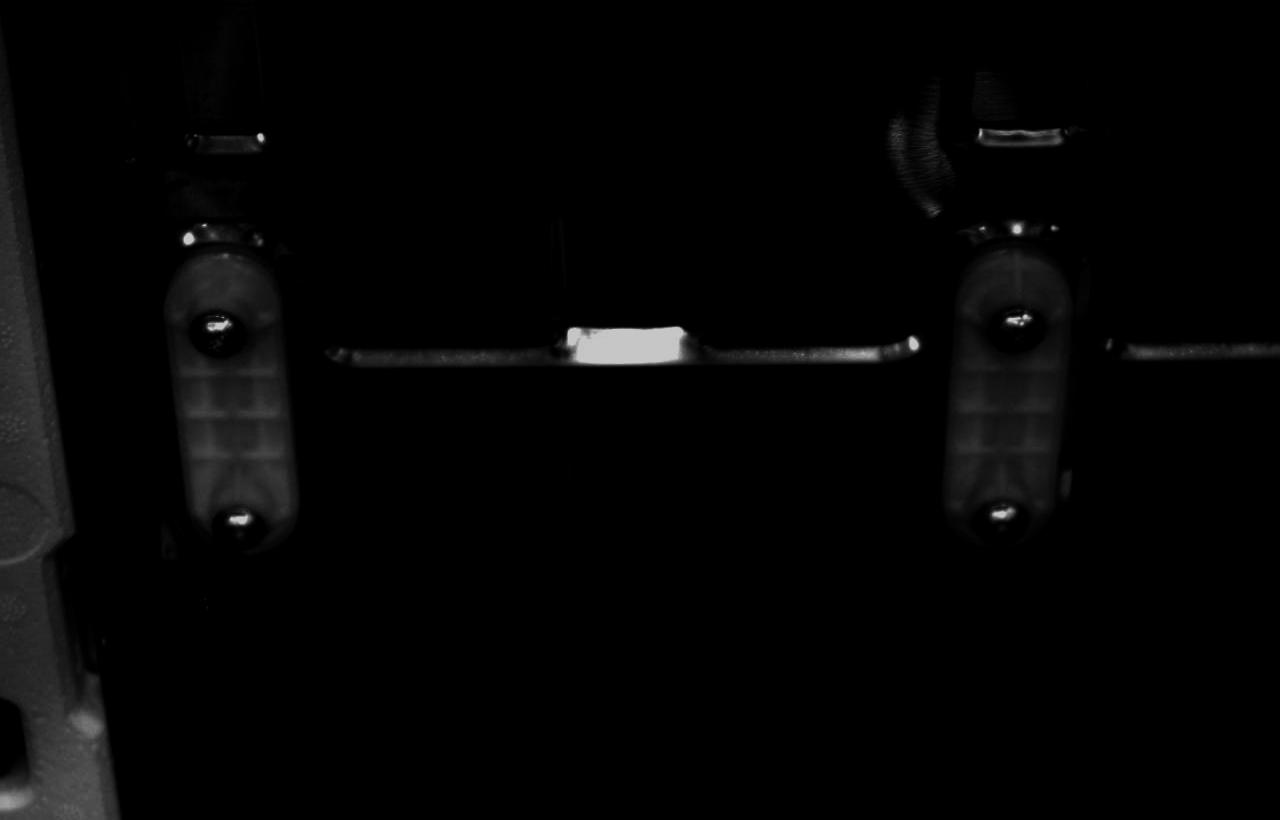vida-ok: (181, 302, 253, 369), (986, 294, 1053, 361), (969, 484, 1034, 552), (206, 498, 271, 557)
